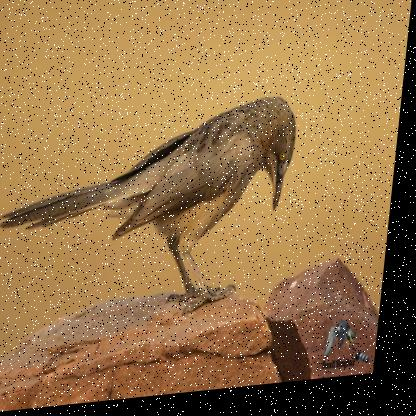Burung: (0, 101, 302, 336)
